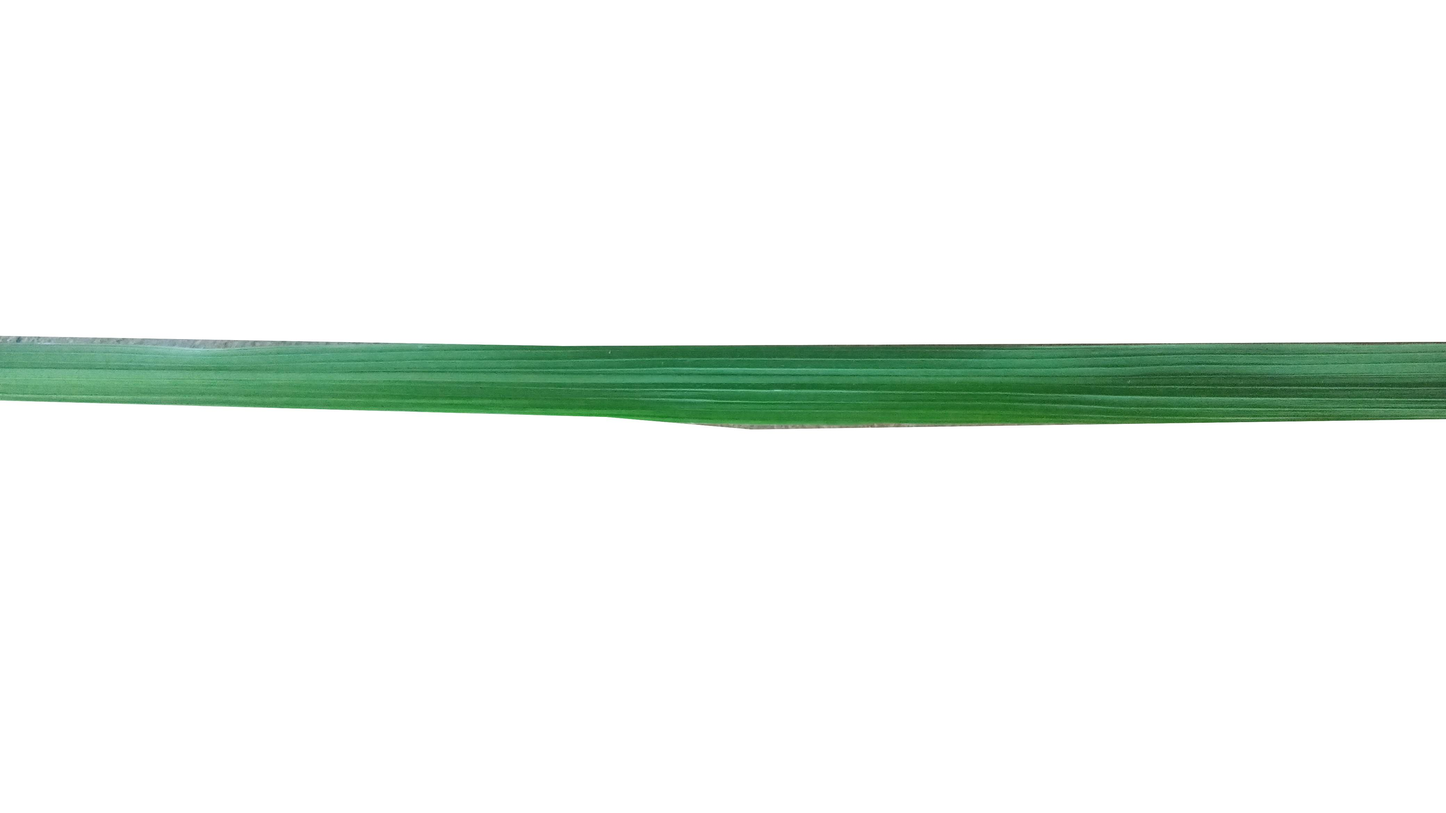Healthy: (0, 328, 1446, 430)
